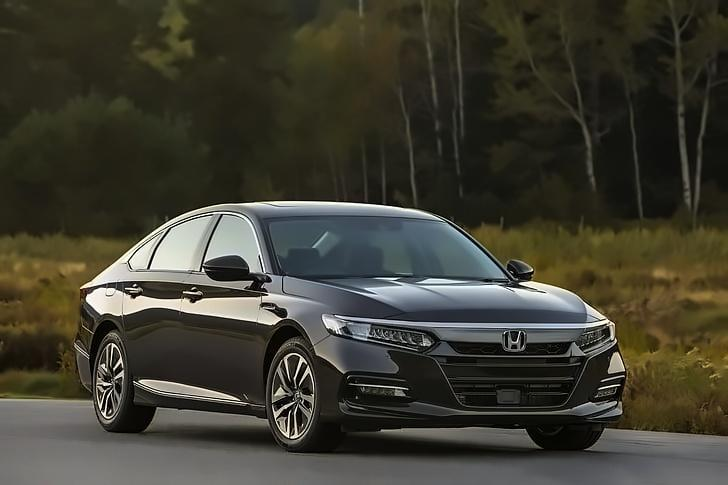Car hood: (277, 274, 601, 334)
Driver-s door - -F-R-: (162, 190, 278, 415)
Fender - -F-R-: (255, 275, 330, 398)
Fender - -R-R-: (74, 239, 137, 350)
Front bumper: (302, 338, 628, 436)
Headlight - -L-: (566, 320, 616, 362)
Headlight - -R-: (321, 312, 440, 352)
Passenger-s door - -R-R-: (127, 195, 220, 410)
Rear bumper: (72, 323, 98, 399)
Side bumper - -R-: (122, 366, 267, 430)
Side mirror - -L-: (502, 259, 539, 283)
Side mirror - -R-: (198, 250, 268, 288)
